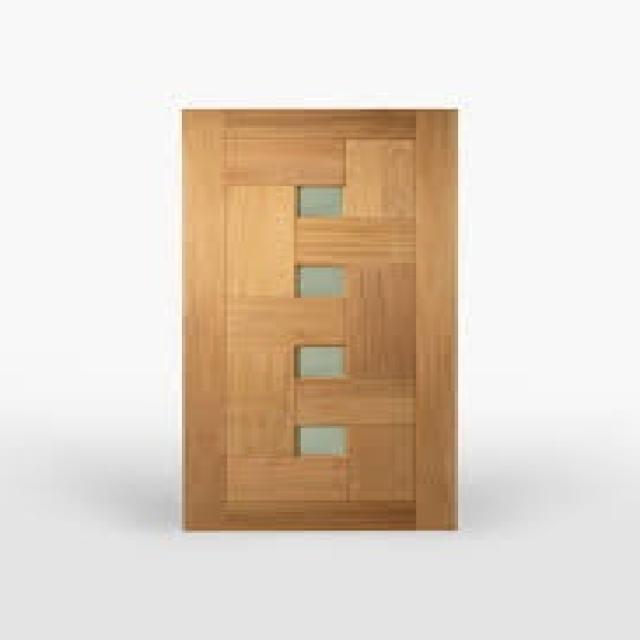door: (180, 108, 460, 532)
